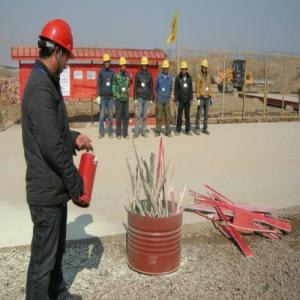red: (39, 21, 74, 74)
yellow: (103, 55, 111, 70), (180, 62, 189, 75), (142, 57, 150, 71), (163, 60, 171, 74), (202, 60, 209, 73), (120, 57, 126, 72)
